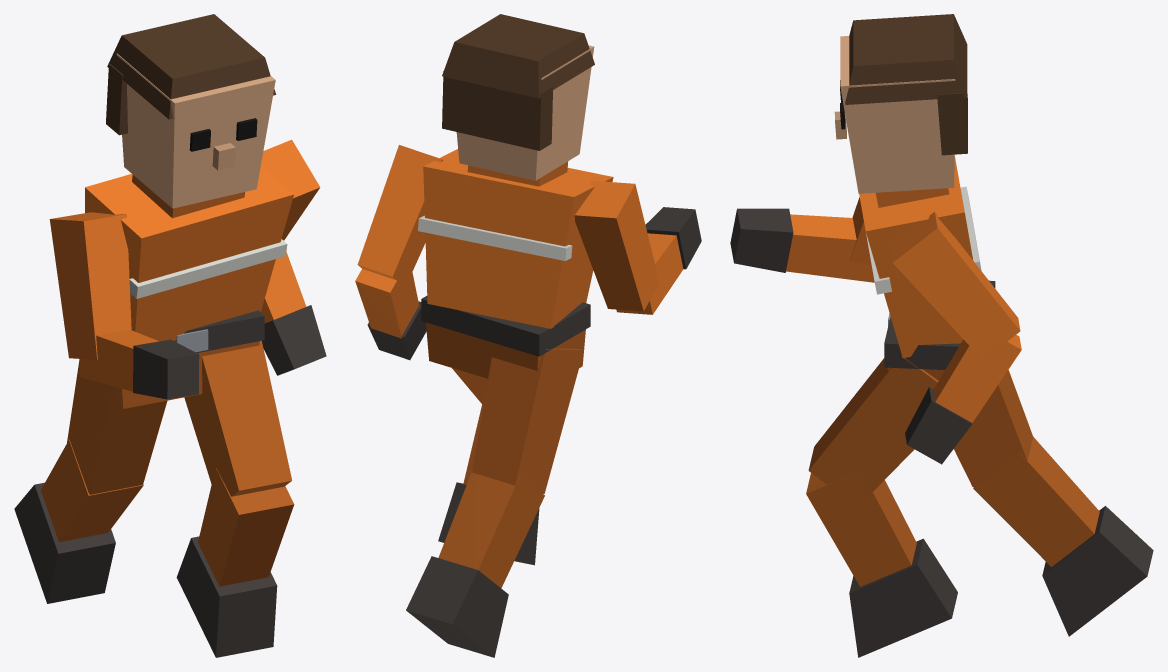
Rendered from character_pose_3.obj.
3 views of the same model, side by side, from view 1: azimuth 30°, elevation 25°; view 2: azimuth 150°, elevation 25°; view 3: azimuth 270°, elevation 25° (orthographic). The views are drawn at different scales.
Bounding box in the file's own units: 0.6332 × 1.39 × 0.8814.
